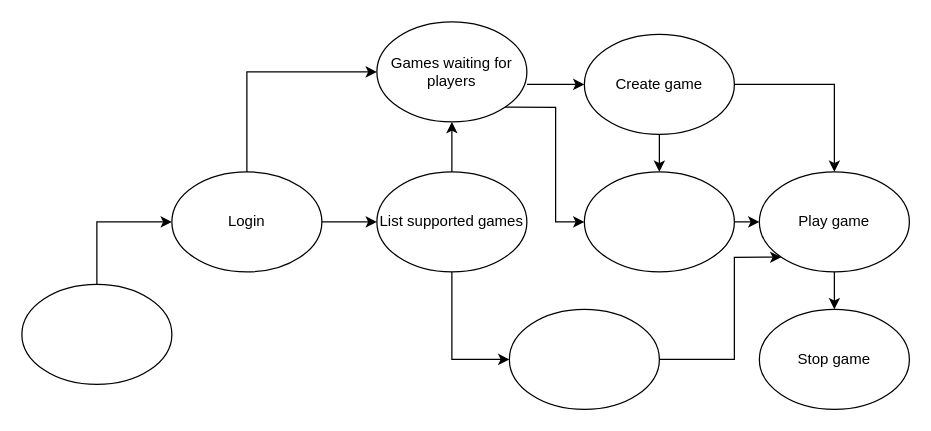
Some shapes in this 931 by 431 pixel diagram are drawn without their labels. The shapes that lost their labels are listed below. From the top down, each one's centre as x and y in pixels, then its label:
[658,221]: Add player to game
[96,333]: Register
[583,358]: Resume game
